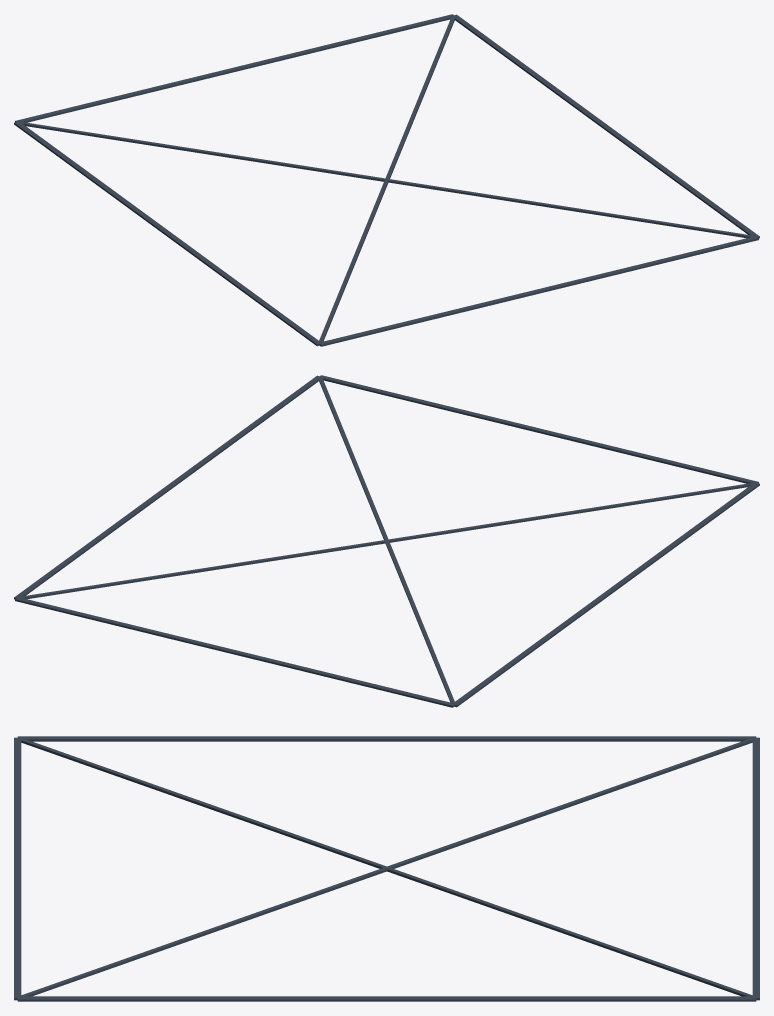
Rendered from SM_MPR_CADFloorPlaceholder.fbx.
The picture shows the model from 3 angles, top to bottom: view 1: azimuth 30°, elevation 25°; view 2: azimuth 150°, elevation 25°; view 3: azimuth 270°, elevation 25°; orthographic projection. The views are drawn at different scales.
Visible parts, largest first — view 1: SM_MPR_CADFloorPlaceholder; view 2: SM_MPR_CADFloorPlaceholder; view 3: SM_MPR_CADFloorPlaceholder.
Boxes of the visible parts, x1,y1,x2,y2 form: SM_MPR_CADFloorPlaceholder: (14, 14, 759, 346); SM_MPR_CADFloorPlaceholder: (14, 375, 759, 707); SM_MPR_CADFloorPlaceholder: (14, 736, 759, 1001).
Size of the model in its own units: 101 by 121 by 0.4.
